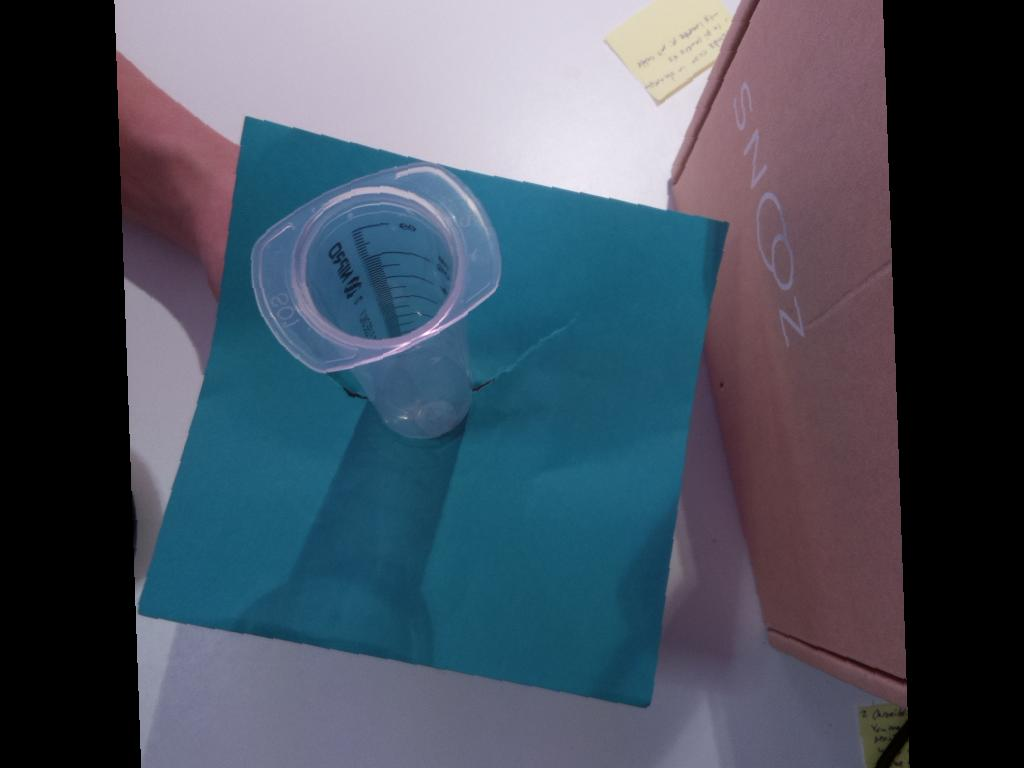clean: (249, 160, 507, 375)
